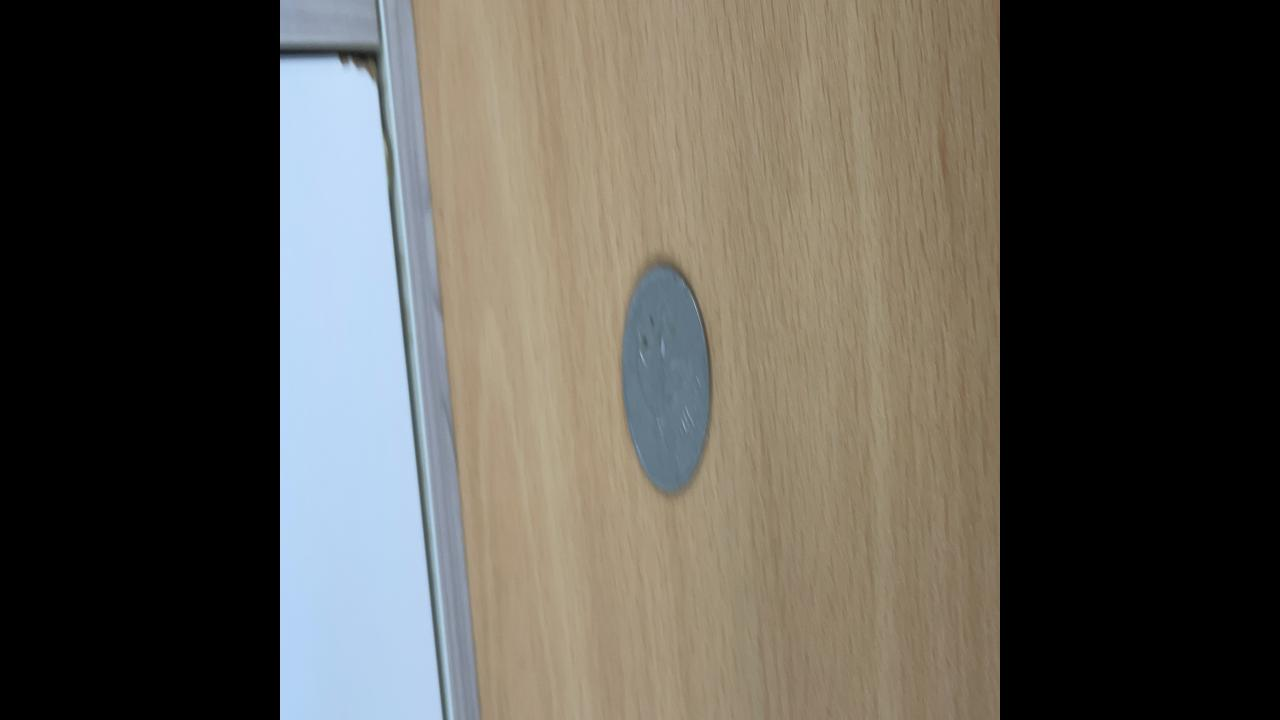coin: (619, 256, 714, 505)
